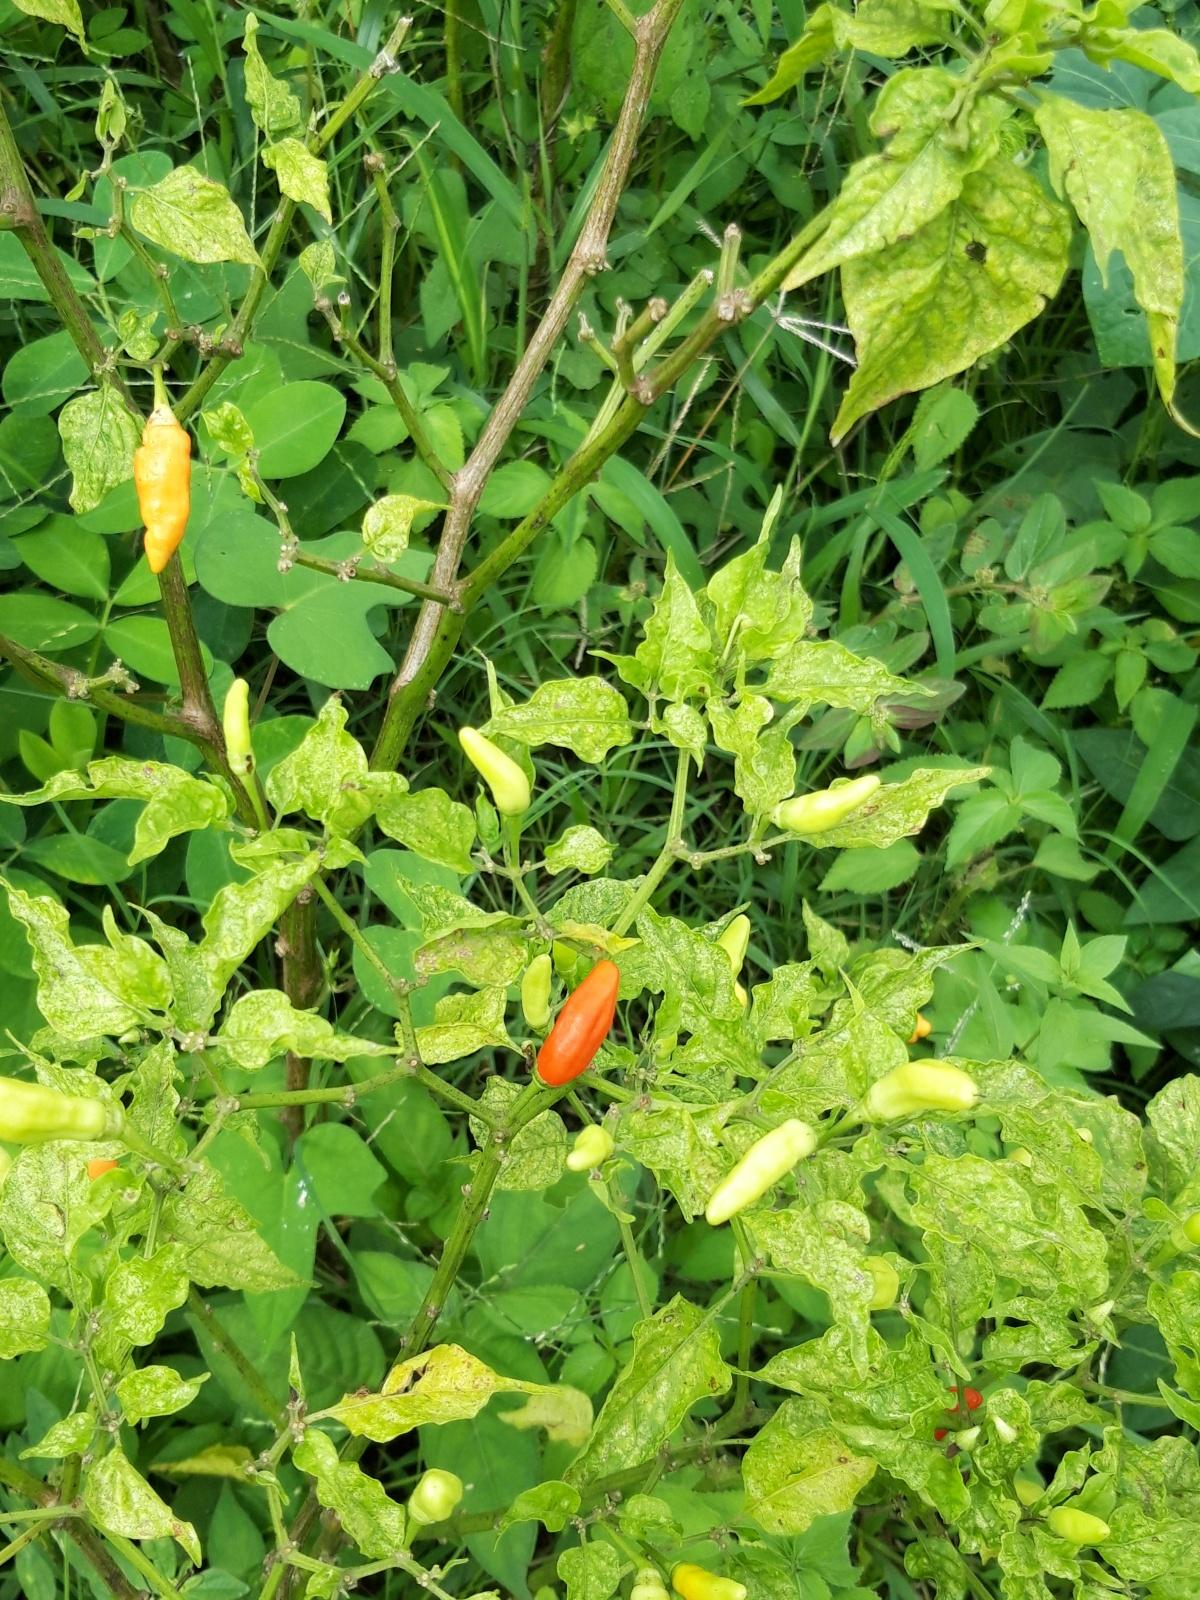cabai_normal: (706, 1120, 818, 1227), (537, 960, 620, 1089), (135, 413, 190, 572), (867, 1058, 977, 1120), (458, 727, 532, 811), (782, 776, 881, 835), (223, 678, 257, 777), (406, 1468, 464, 1522), (1045, 1502, 1111, 1546), (671, 1563, 745, 1600), (521, 954, 555, 1026), (565, 1125, 615, 1172)
